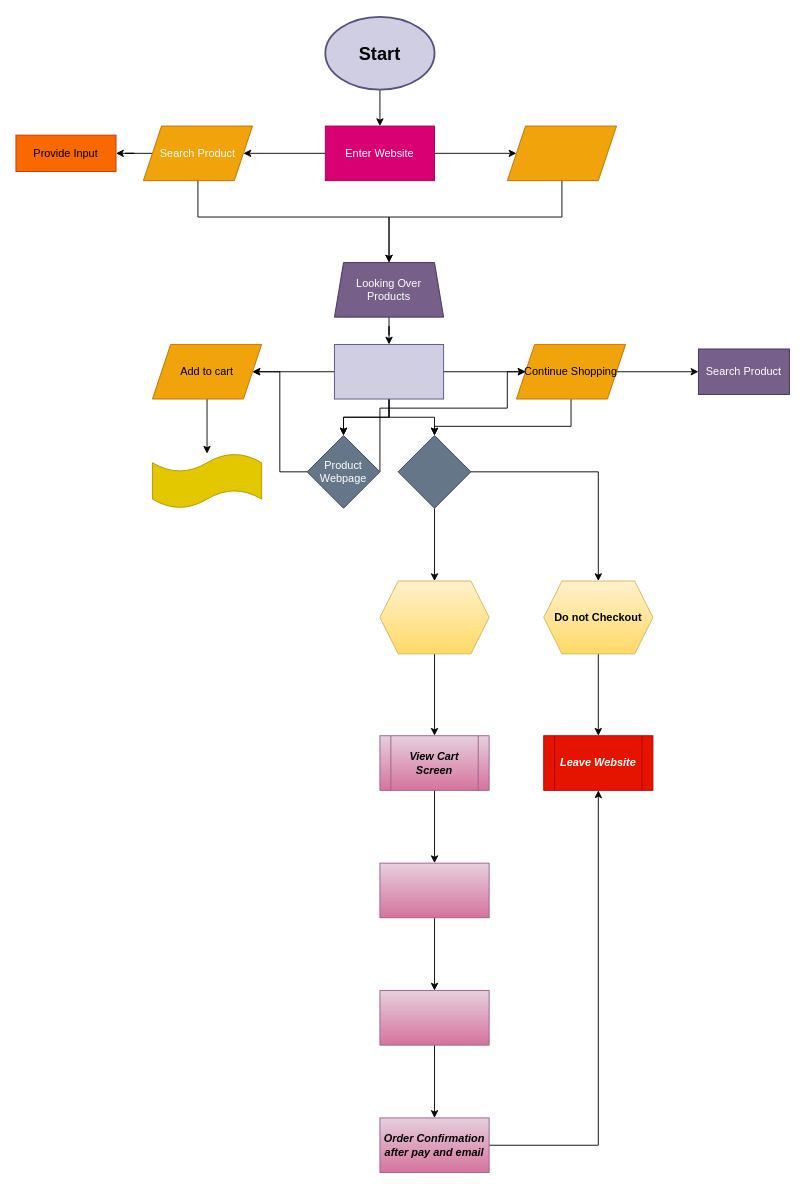
This 805x1188 diagram has some shape labels left out. Each missing label, with the centre of its shape:
"Added to cart confirmation" goes at point (207, 480).
"Checkout" goes at point (434, 617).
"Explore Products" goes at point (561, 153).
"Inpute of Payment Information" goes at point (434, 1017).
"Stop Shopping" goes at point (434, 471).
"View a Specific Product" goes at point (389, 371).
"View Payment" goes at point (434, 890).
